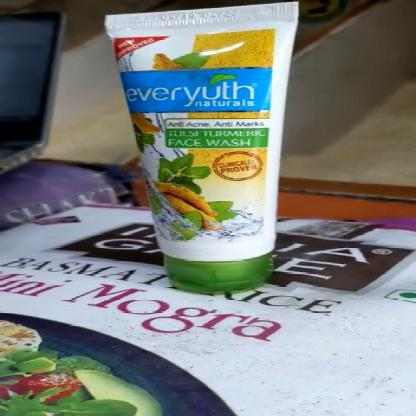EY AAAM TULSI TURMERIC FACEWASH50G: (113, 13, 294, 290)
